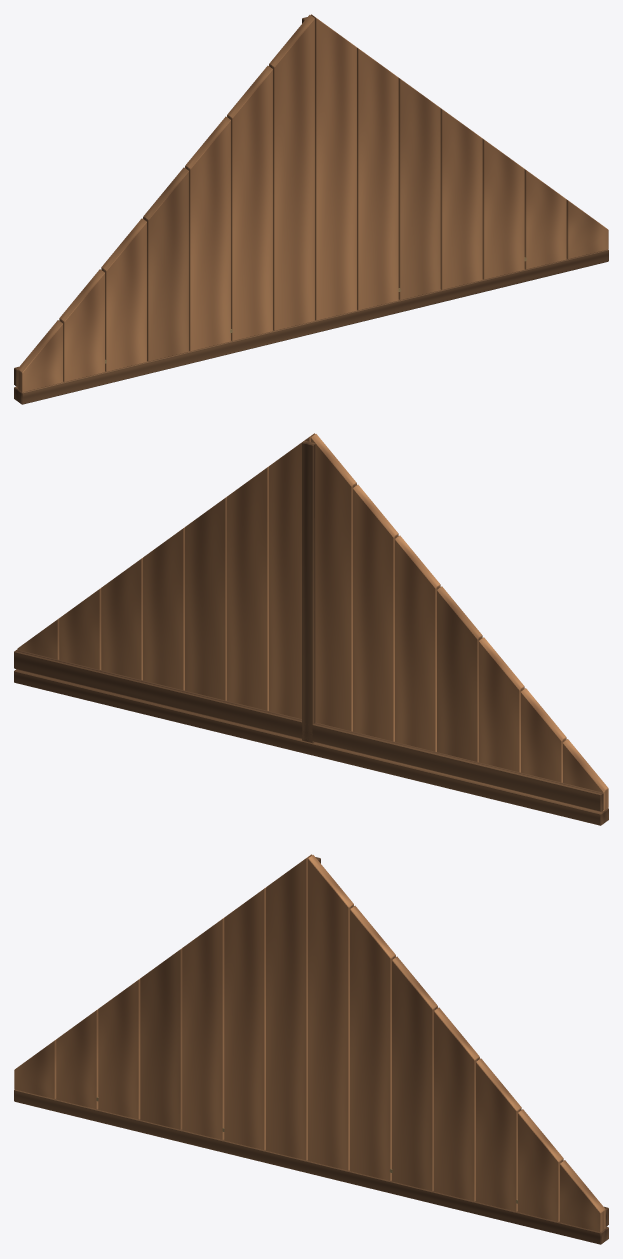
Rendered from town_building_gable_screen_v01.glb.
The picture shows the model from 3 angles, top to bottom: view 1: azimuth 30°, elevation 25°; view 2: azimuth 150°, elevation 25°; view 3: azimuth 330°, elevation 25°; orthographic projection.
Visible parts, largest first — view 1: LOD0_Static; view 2: LOD0_Static; view 3: LOD0_Static.
Part boxes in pixels (box(x1,y1,x2,y2)): LOD0_Static: box(14, 14, 608, 404); LOD0_Static: box(14, 433, 608, 825); LOD0_Static: box(14, 854, 608, 1244).
Size of the model in its own units: 3.5 by 1.8 by 0.085.
2 materials, 2 textured.
